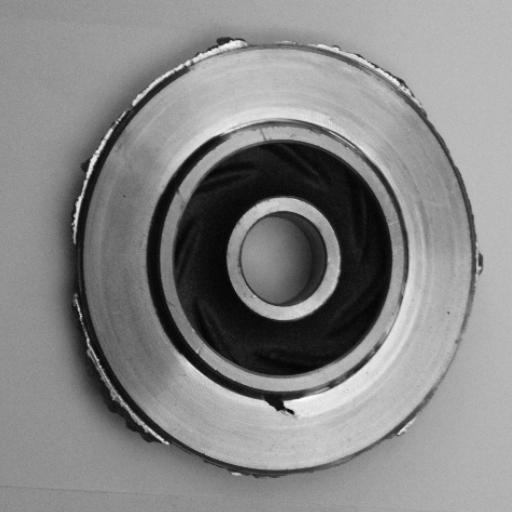casting_with_burr: (67, 31, 487, 478)
crack: (252, 380, 301, 425)
scratch: (213, 115, 285, 141)
